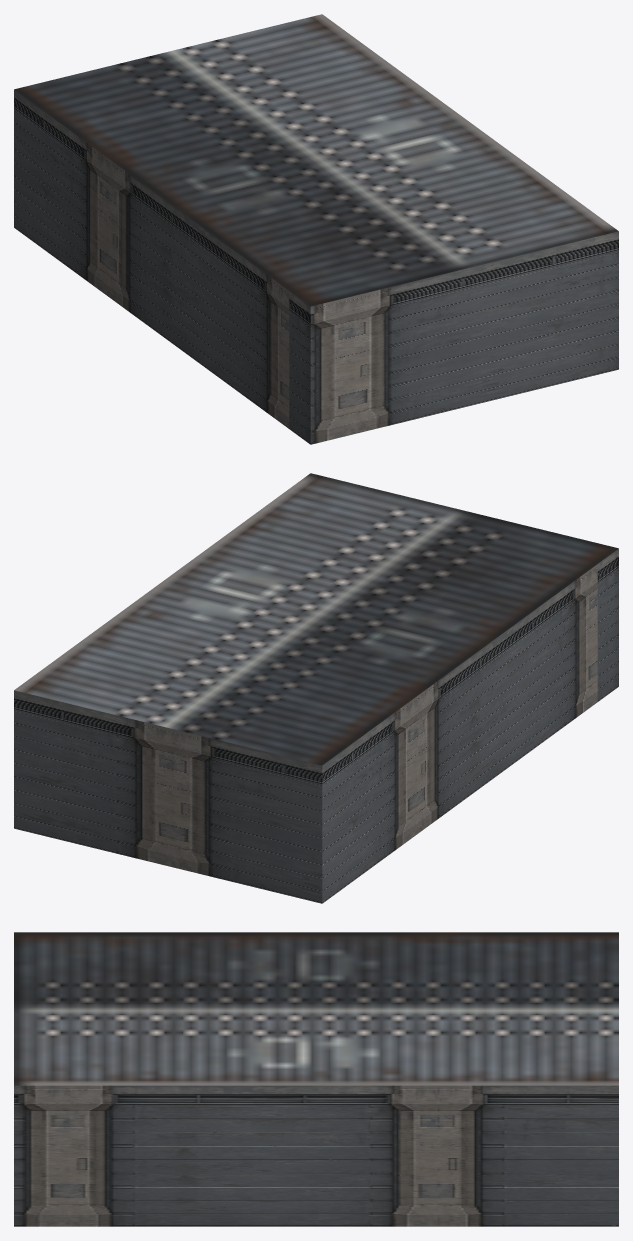
The model's file is hangar_medium_01.glb.
The picture shows the model from 3 angles, top to bottom: view 1: azimuth 30°, elevation 25°; view 2: azimuth 150°, elevation 25°; view 3: azimuth 270°, elevation 25°; orthographic projection.
Parts seen in each view (by area): view 1: buildings/saxarba/hangar_medium/hangar_medium_01; view 2: buildings/saxarba/hangar_medium/hangar_medium_01; view 3: buildings/saxarba/hangar_medium/hangar_medium_01.
Part boxes in pixels (left/top/right/bottom): buildings/saxarba/hangar_medium/hangar_medium_01: left=14, top=14, right=618, bottom=444; buildings/saxarba/hangar_medium/hangar_medium_01: left=14, top=473, right=618, bottom=903; buildings/saxarba/hangar_medium/hangar_medium_01: left=14, top=932, right=618, bottom=1226.
Size of the model in its own units: 42 by 18 by 70.
